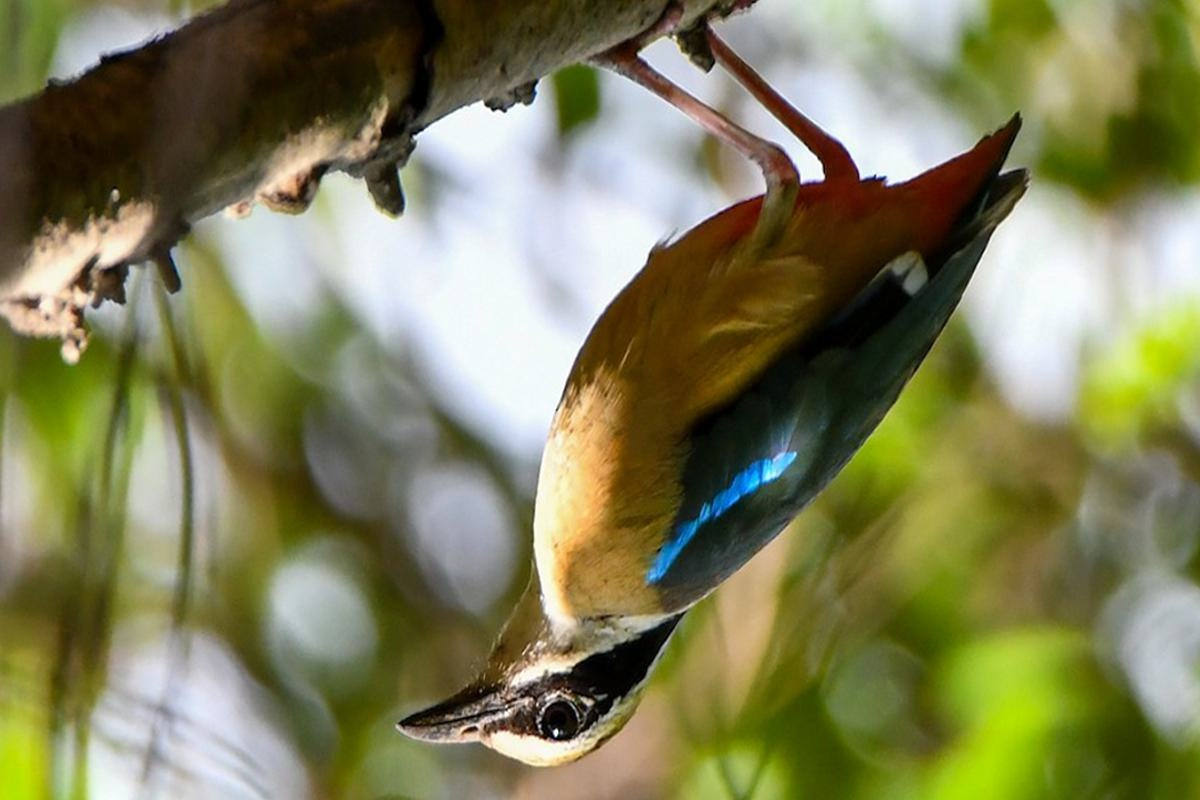pitta: (349, 42, 1028, 792)
